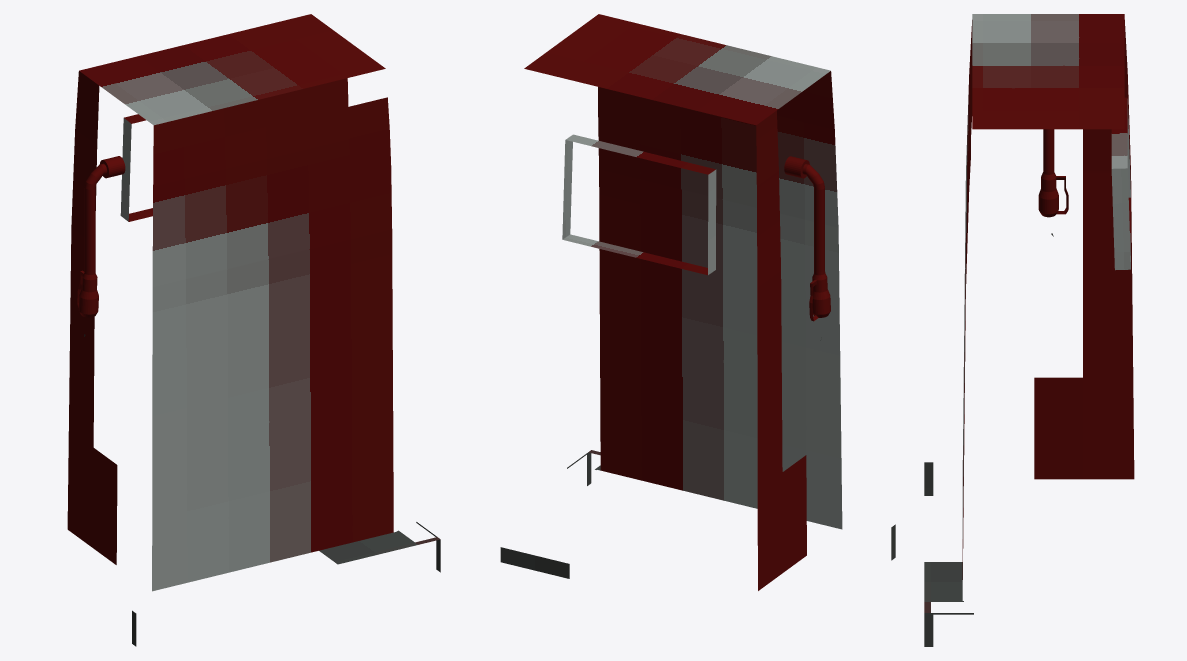
The model's file is fuelpump.obj.
The picture shows the model from 3 angles, left to right: view 1: azimuth 30°, elevation 25°; view 2: azimuth 150°, elevation 25°; view 3: azimuth 270°, elevation 25°; orthographic projection.
Parts seen in each view (by area): view 1: Cube, Cylinder; view 2: Cube, Cylinder; view 3: Cube, Cylinder.
Boxes of the visible parts, x1,y1,x2,y2 form: Cube: (67,14,440,646); Cylinder: (77,156,125,336); Cube: (500,14,895,590); Cylinder: (784,156,830,340); Cube: (924,14,1134,646); Cylinder: (1038,129,1068,236).
Bounding box in the file's own units: 0.964 × 1.5 × 0.6706.
